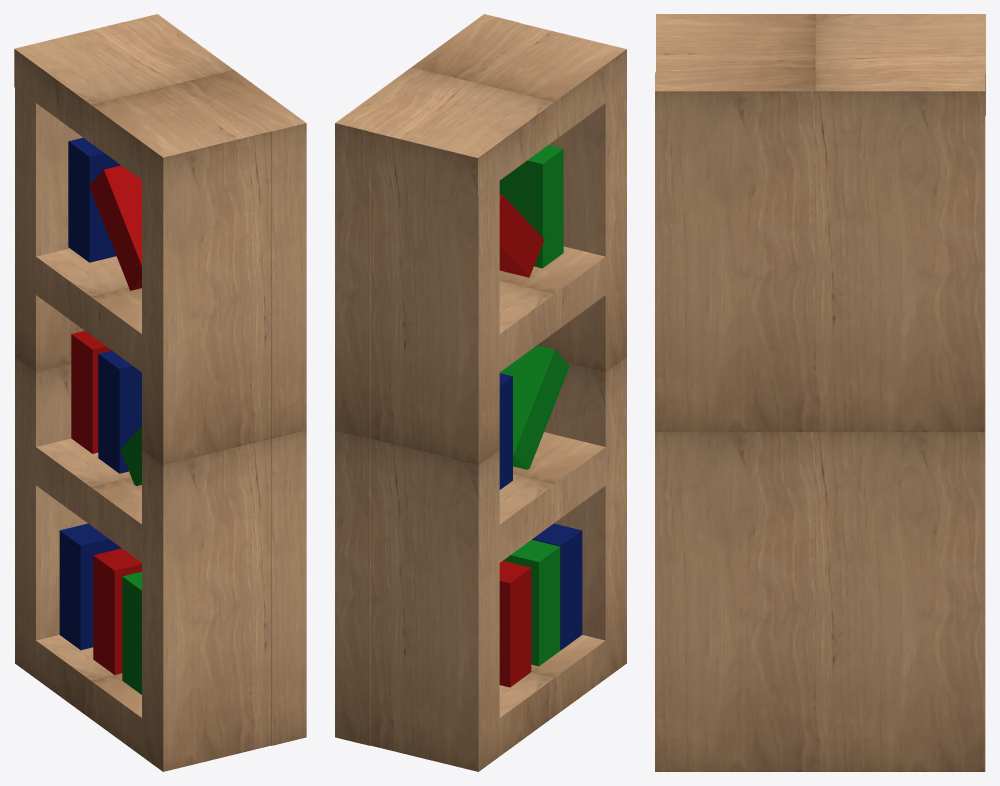
File: Bookcase3.fbx
The picture shows the model from 3 angles, left to right: view 1: azimuth 30°, elevation 25°; view 2: azimuth 150°, elevation 25°; view 3: azimuth 270°, elevation 25°; orthographic projection. The views are drawn at different scales.
Parts seen in each view (by area): view 1: mergedBlocks; view 2: mergedBlocks; view 3: mergedBlocks.
Boxes of the visible parts, bbox=[...] form: mergedBlocks: bbox=[14, 14, 306, 771]; mergedBlocks: bbox=[335, 14, 626, 771]; mergedBlocks: bbox=[655, 14, 985, 771].
Bounding box in the file's own units: 4.88 × 20 × 8.81.
Materials: 4 (1 with a texture image).
